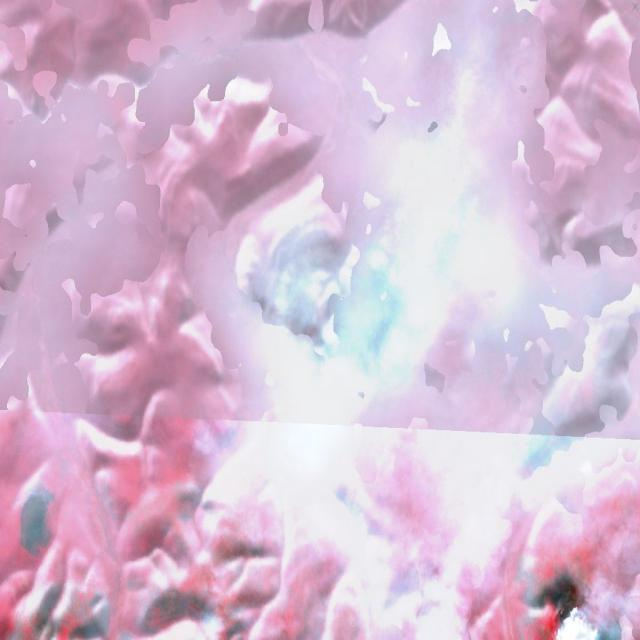fire: (226, 195, 412, 389)
